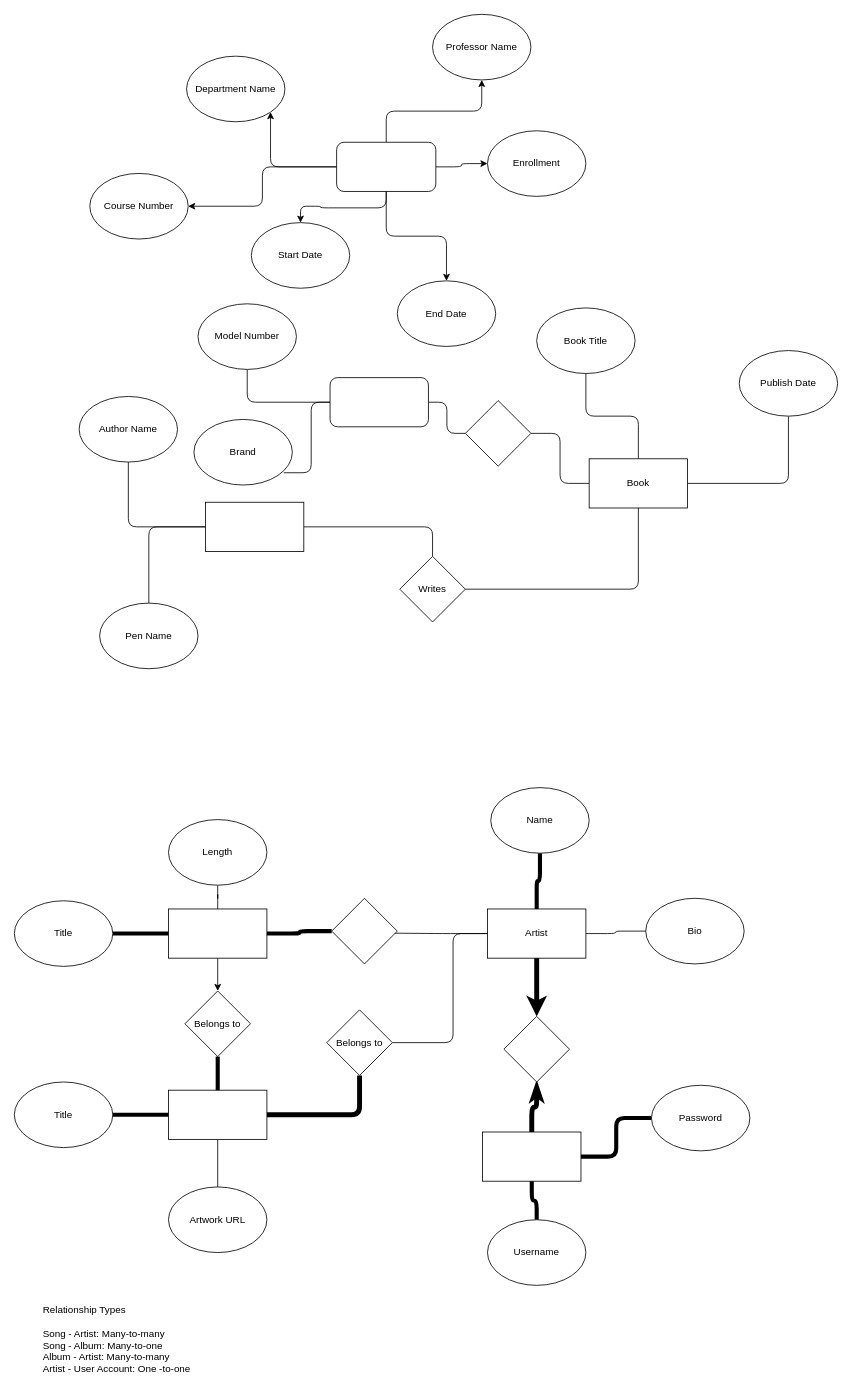
Image size: 852x1389. Some labels were removed from this diagram. The shapes that lost their labels are listed below. From the top down, each one's centre as x and y in pixels, then its label:
At (386,166): "Course".
At (378,402): "Printer".
At (498,433): "Prints".
At (254,526): "Author".
At (217,933): "Song".
At (364,930): "Written By".
At (536,1049): "Has A".
At (217,1114): "Album".
At (531,1156): "User Account".
